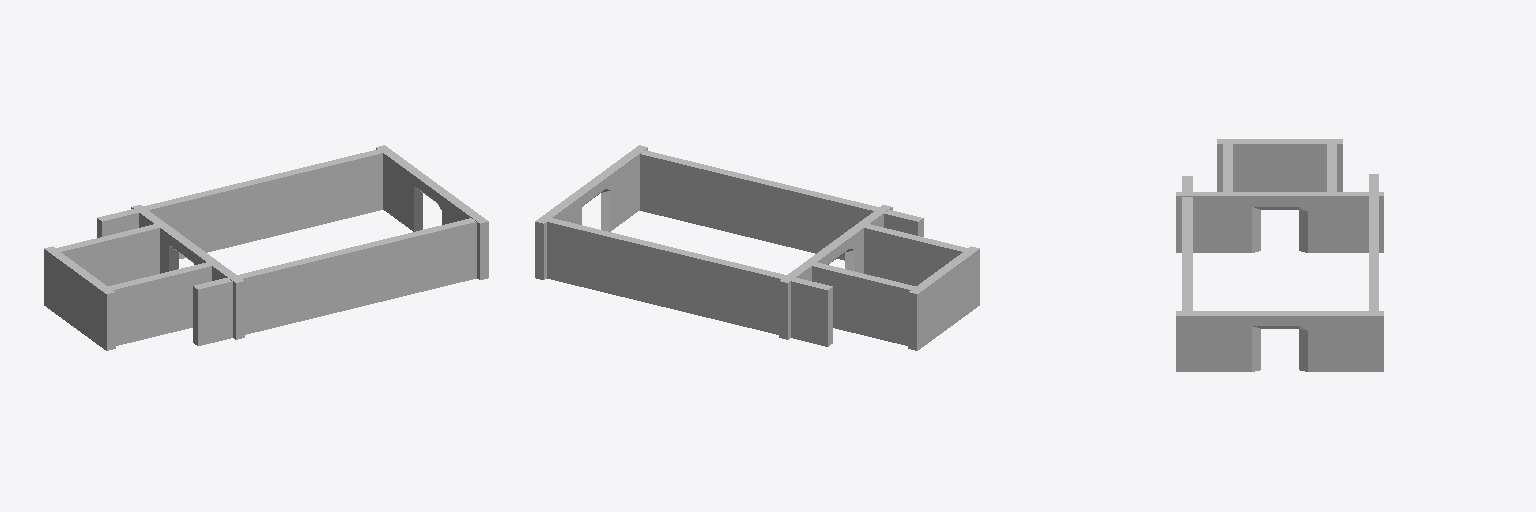
The model's file is Room03.obj.
3 views of the same model, side by side, from view 1: azimuth 30°, elevation 25°; view 2: azimuth 150°, elevation 25°; view 3: azimuth 270°, elevation 25° (orthographic).
Parts seen in each view (by area): view 1: Cube.007, Cube.004, Cube, Cube.001, Cube.006, Cube.002, Cube.003; view 2: Cube.004, Cube.007, Cube.002, Cube.001, Cube.006, Cube, Cube.003; view 3: Cube.006, Cube.003, Cube.001, Cube.007, Cube.004, Cube.
Part boxes in pixels (left/top/right/bottom): Cube.007: left=193, top=218, right=476, bottom=345; Cube.004: left=97, top=149, right=382, bottom=258; Cube: left=103, top=262, right=211, bottom=345; Cube.001: left=44, top=246, right=115, bottom=350; Cube.006: left=376, top=145, right=488, bottom=279; Cube.002: left=51, top=223, right=163, bottom=285; Cube.003: left=131, top=205, right=244, bottom=339; Cube.004: left=547, top=218, right=832, bottom=346; Cube.007: left=640, top=150, right=923, bottom=260; Cube.002: left=808, top=261, right=915, bottom=345; Cube.001: left=908, top=246, right=979, bottom=350; Cube.006: left=535, top=145, right=647, bottom=279; Cube: left=862, top=224, right=972, bottom=285; Cube.003: left=779, top=205, right=892, bottom=339; Cube.006: left=1176, top=311, right=1383, bottom=371; Cube.003: left=1176, top=192, right=1383, bottom=252; Cube.001: left=1217, top=139, right=1342, bottom=191; Cube.007: left=1182, top=176, right=1192, bottom=310; Cube.004: left=1369, top=174, right=1378, bottom=311; Cube: left=1223, top=141, right=1232, bottom=193.
Size of the model in its own units: 40 by 6.05 by 20.